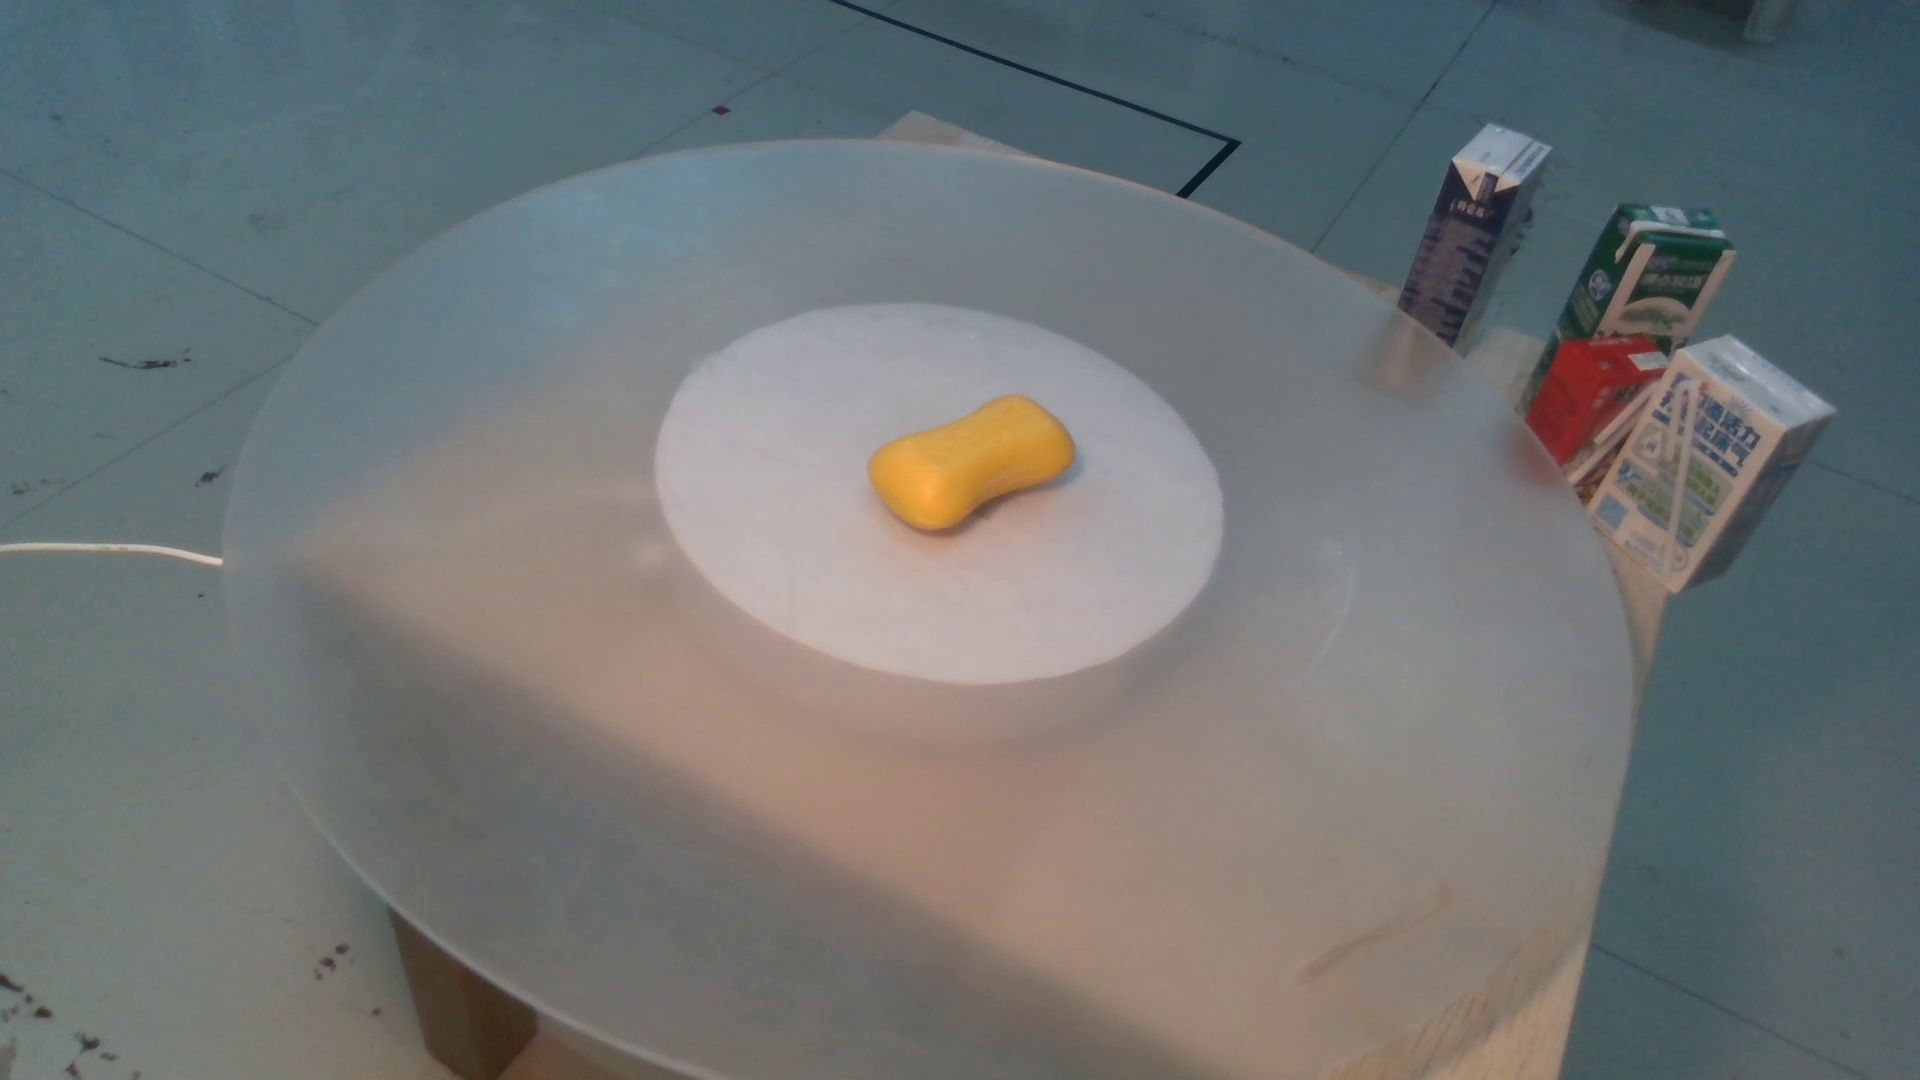CA003_1: (880, 373, 1101, 554)
